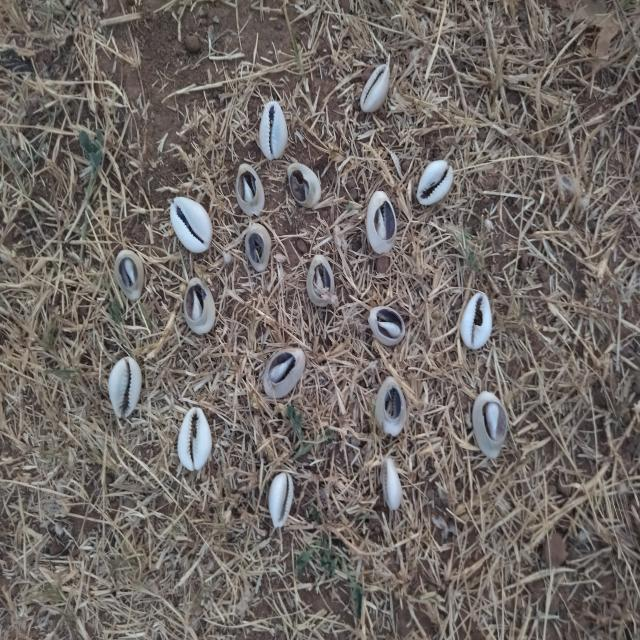facedown: (470, 387, 511, 463), (260, 343, 311, 400), (181, 273, 220, 339), (364, 187, 398, 257), (374, 374, 408, 441), (232, 162, 269, 220), (303, 251, 338, 310), (113, 247, 148, 303), (286, 160, 322, 213), (367, 303, 408, 348), (242, 220, 274, 275)
faceup: (167, 193, 216, 256), (175, 404, 214, 476), (106, 352, 144, 423), (458, 287, 494, 351), (256, 96, 290, 163), (414, 156, 457, 208), (358, 60, 392, 117), (265, 471, 295, 532), (378, 452, 404, 513)
